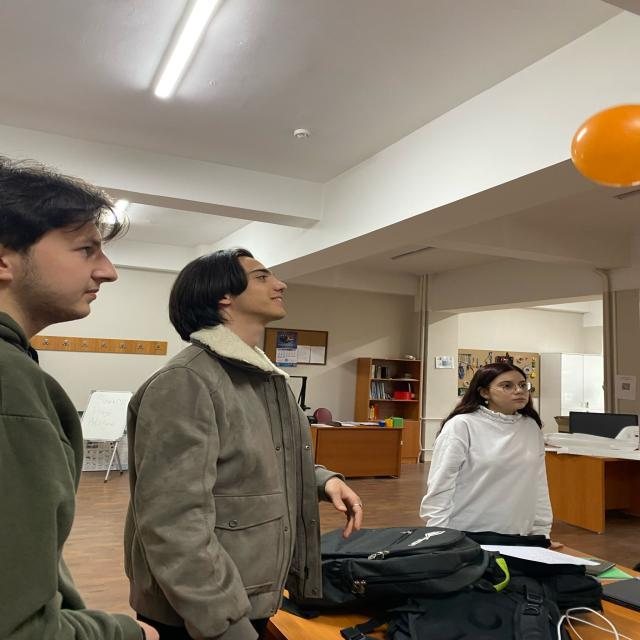balloon: (569, 103, 640, 187)
